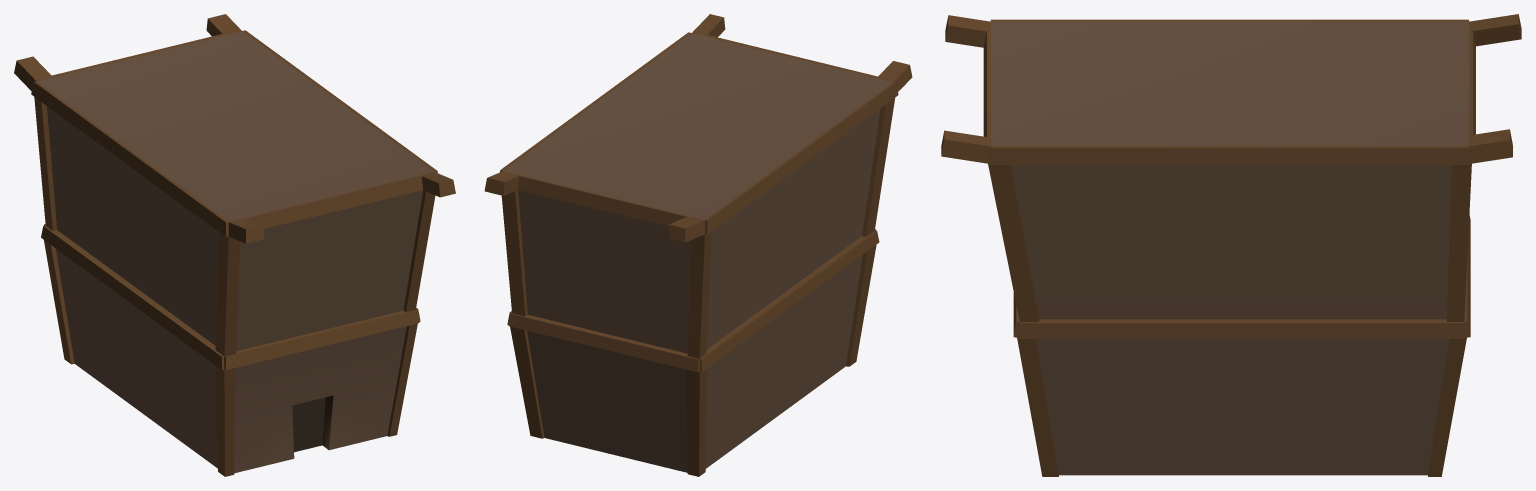
File: Building_Viking_Base_01.fbx
3 renders of one model, left to right at view 1: azimuth 30°, elevation 25°; view 2: azimuth 150°, elevation 25°; view 3: azimuth 270°, elevation 25°, orthographic. The views are drawn at different scales.
Parts seen in each view (by area): view 1: Building_Viking_Base_01; view 2: Building_Viking_Base_01; view 3: Building_Viking_Base_01.
Boxes of the visible parts, bbox=[...] form: Building_Viking_Base_01: bbox=[14, 14, 455, 476]; Building_Viking_Base_01: bbox=[484, 14, 912, 476]; Building_Viking_Base_01: bbox=[941, 14, 1521, 476].
Bounding box in the file's own units: 398 × 498 × 751.
